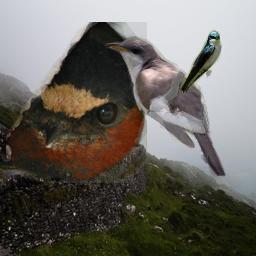Cuckoo: (103, 34, 226, 181)
Swallow: (6, 22, 147, 183), (179, 30, 222, 95)
